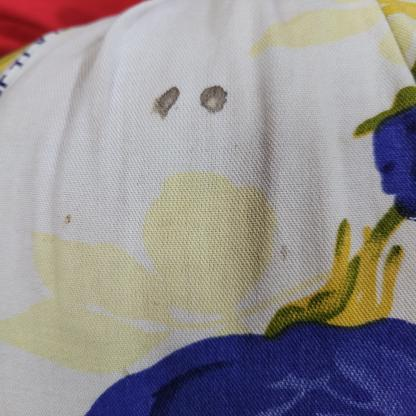spot: (146, 80, 182, 118), (195, 80, 237, 112), (278, 243, 290, 262), (61, 212, 76, 223)
